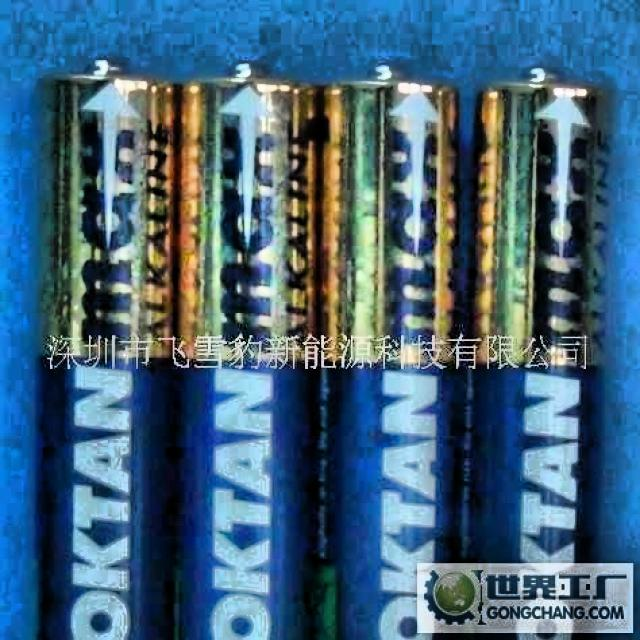Non-Valuable Waste - Batteries: (39, 62, 610, 637)
